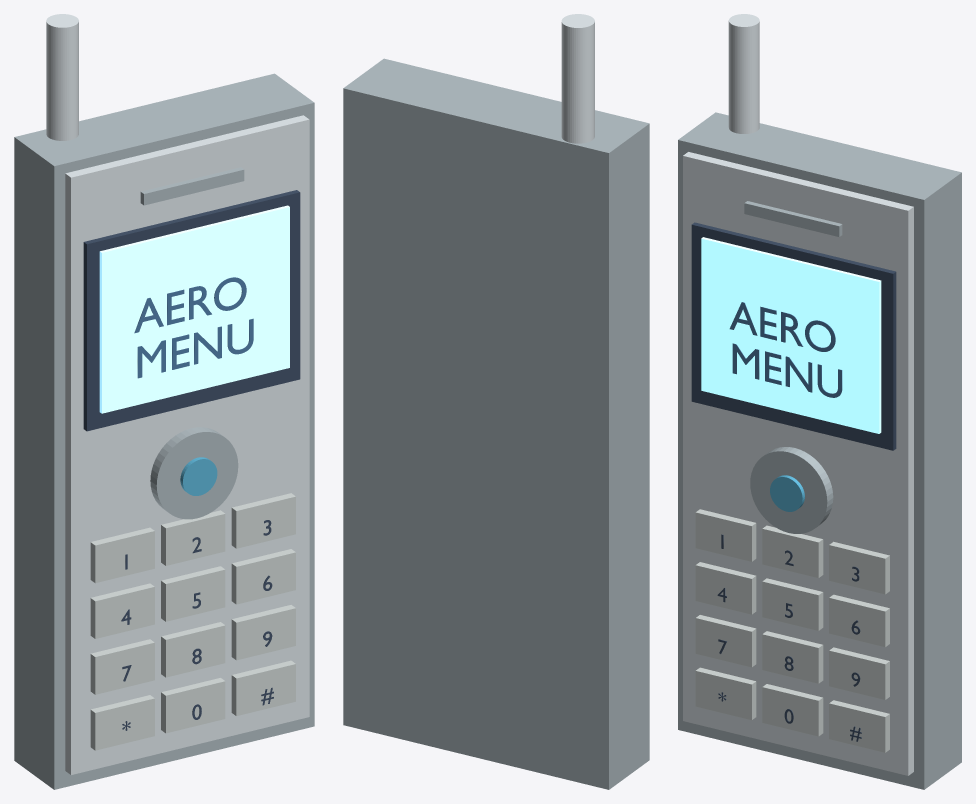
The model's file is aero_mobile_phone.glb.
3 views of the same model, side by side, from view 1: azimuth 30°, elevation 25°; view 2: azimuth 150°, elevation 25°; view 3: azimuth 330°, elevation 25° (orthographic). The views are drawn at different scales.
Visible parts, largest first — view 1: White front, Silver phone shell, Blue monochrome screen, Blue screen bezel, Navigation disc, Antenna, Phone display, Key 00, Key 30, Key 20, Key 10, Key 11 (+9 smaller); view 2: Silver phone shell, Antenna; view 3: White front, Silver phone shell, Blue monochrome screen, Blue screen bezel, Navigation disc, Antenna, Phone display, Key 00, Key 30, Key 20, Key 10, Key 11 (+9 smaller).
Part boxes in pixels (x1,y1,x2,y2): White front: [65, 115, 309, 774]; Silver phone shell: [14, 73, 314, 789]; Blue monochrome screen: [99, 205, 289, 413]; Blue screen bezel: [83, 190, 300, 431]; Navigation disc: [150, 427, 238, 519]; Antenna: [46, 14, 78, 140]; Phone display: [134, 277, 253, 378]; Key 00: [90, 527, 154, 583]; Key 30: [90, 695, 154, 750]; Key 20: [90, 639, 154, 694]; Key 10: [90, 583, 154, 638]; Key 11: [161, 566, 225, 621]; Silver phone shell: [343, 58, 649, 789]; Antenna: [561, 14, 594, 143]; White front: [683, 152, 913, 775]; Silver phone shell: [678, 112, 961, 789]; Blue monochrome screen: [701, 237, 881, 433]; Blue screen bezel: [691, 222, 896, 450]; Navigation disc: [750, 447, 833, 533]; Antenna: [728, 14, 759, 133]; Phone display: [729, 302, 842, 397]; Key 00: [695, 509, 756, 561]; Key 30: [695, 667, 756, 719]; Key 20: [695, 615, 756, 667]; Key 10: [695, 562, 756, 614]; Key 11: [762, 578, 823, 630].
Size of the model in its own units: 0.83 by 2.24 by 0.307.
